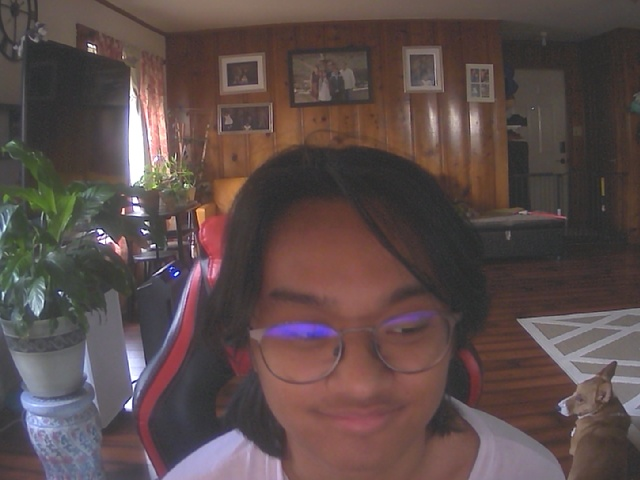happy: (236, 165, 479, 474)
